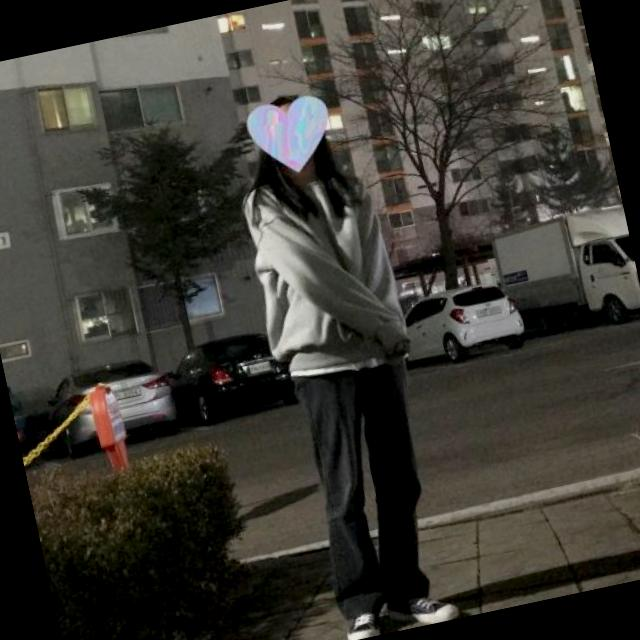zipup: (235, 154, 419, 386)
